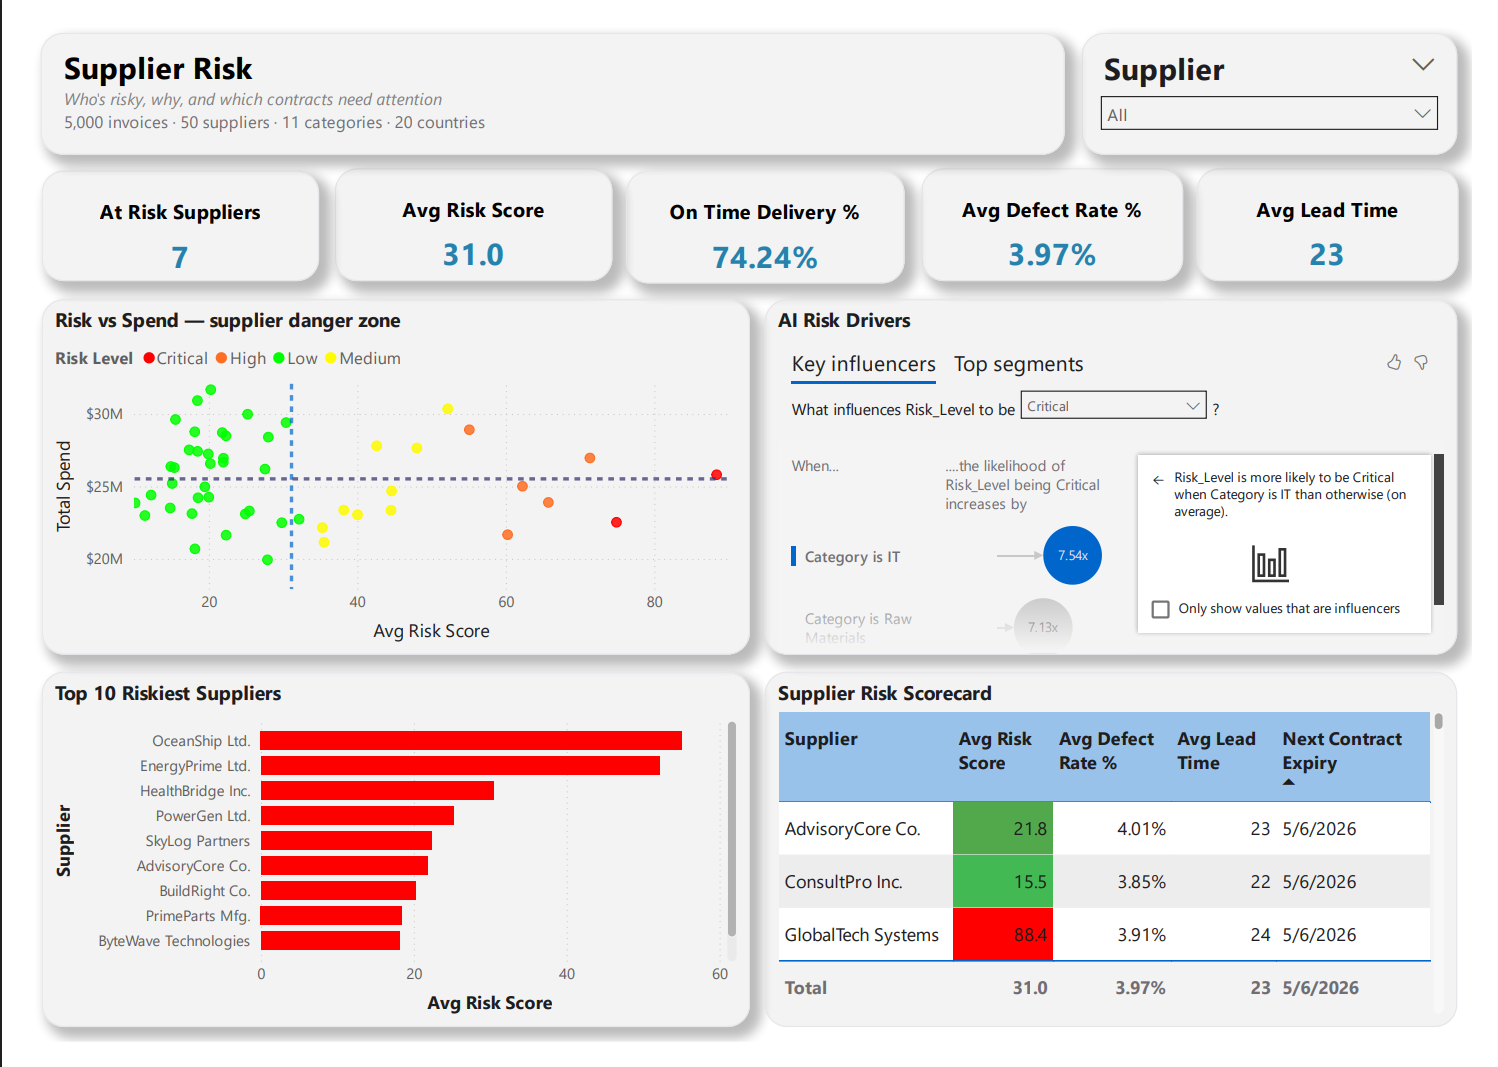

The page's visual inventory and layout, read from the dashboard file:
{"tool":"powerbi","page":{"name":"Supplier Risk","canvas":[1280,900],"ordinal":2},"visuals":[{"type":"cardVisual","title":"Total Spend","fields":{"Data":["procurement_data.Avg Risk Score"]},"box":[272,126,246,100],"z":0},{"type":"cardVisual","title":"Total Spend","fields":{"Data":["procurement_data.Avg Defect Rate %"]},"box":[792,126,232,100],"z":1000},{"type":"cardVisual","title":"Total Spend","fields":{"Data":["procurement_data.Avg Lead Time"]},"box":[1036,126,232,100],"z":2000},{"type":"slicer","fields":{"Values":["procurement_data.Supplier"]},"box":[934.3,5.7,332.9,108.6],"z":3000},{"type":"cardVisual","title":"Total Spend","fields":{"Data":["procurement_data.At-Risk Suppliers"]},"box":[12,128,246,98],"z":4000},{"type":"textbox","box":[11.4,5.7,907.1,108.6],"z":5000},{"type":"cardVisual","title":"Total Spend","fields":{"Data":["procurement_data.On Time Delivery %"]},"box":[530,128.3,246.7,100],"z":6000},{"type":"scatterChart","title":"Risk vs Spend — supplier danger zone","fields":{"X":["procurement_data.Avg Risk Score"],"Y":["procurement_data.Total Spend"],"Category":["procurement_data.Supplier"],"Series":["procurement_data.Risk_Level"]},"box":[11.7,241.7,628.3,315],"z":7000},{"type":"keyDriversVisual","title":"AI Risk Drivers","fields":{"Target":["procurement_data.Risk_Level"],"ExplainBy":["Sum(procurement_data.Defect_Rate_Pct)","procurement_data.On_Time_Delivery","procurement_data.Category"]},"box":[653.3,241.7,613.3,315],"z":8000},{"type":"clusteredBarChart","title":"Top 10 Riskiest Suppliers","fields":{"Category":["procurement_data.Supplier"],"Y":["procurement_data.Avg Risk Score"]},"box":[11.7,571.7,628.3,315],"z":9000},{"type":"tableEx","title":"Supplier Risk Scorecard","fields":{"Values":["procurement_data.Supplier","procurement_data.Avg Risk Score","procurement_data.Avg Defect Rate %","procurement_data.Avg Lead Time","procurement_data.Next Contract Expiry"]},"box":[653.3,571.7,613.3,315],"z":10000}]}

Visuals, with their boxes in screenshot pixels (x1, y1, x2, y2), scaled from the page's 1280x900 canvas onto the 1498x1067 screenshot:
"Total Spend" cardVisual: bbox=[318, 149, 606, 268]
"Total Spend" cardVisual: bbox=[927, 149, 1198, 268]
"Total Spend" cardVisual: bbox=[1212, 149, 1484, 268]
slicer - procurement_data.Supplier: bbox=[1093, 7, 1483, 136]
"Total Spend" cardVisual: bbox=[14, 152, 302, 268]
textbox: bbox=[13, 7, 1075, 136]
"Total Spend" cardVisual: bbox=[620, 152, 909, 271]
"Risk vs Spend — supplier danger zone" scatterChart: bbox=[14, 287, 749, 660]
"AI Risk Drivers" keyDriversVisual: bbox=[765, 287, 1482, 660]
"Top 10 Riskiest Suppliers" clusteredBarChart: bbox=[14, 678, 749, 1051]
"Supplier Risk Scorecard" tableEx: bbox=[765, 678, 1482, 1051]
